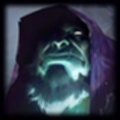Yorick: (4, 5, 117, 115)
